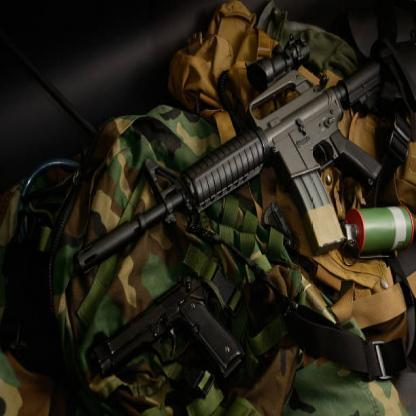Grenade: (343, 204, 415, 255)
Gun: (66, 29, 416, 275)
Pistol: (93, 273, 246, 382)
